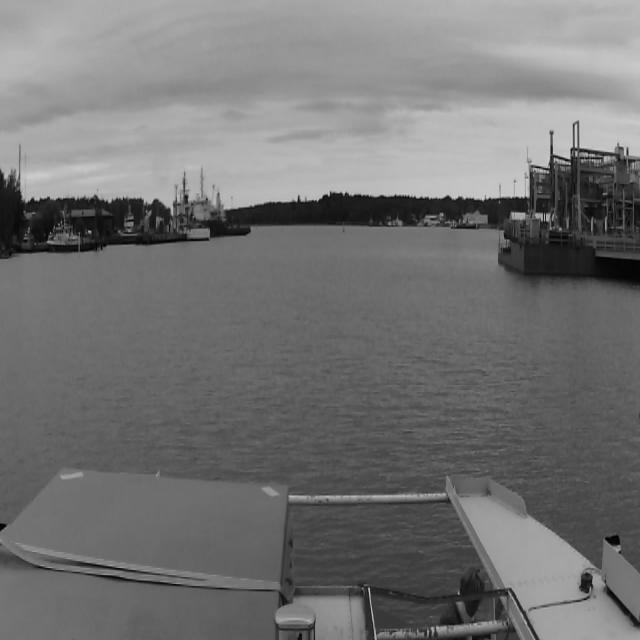buoy: (343, 222, 345, 233)
ship: (170, 171, 210, 241)
